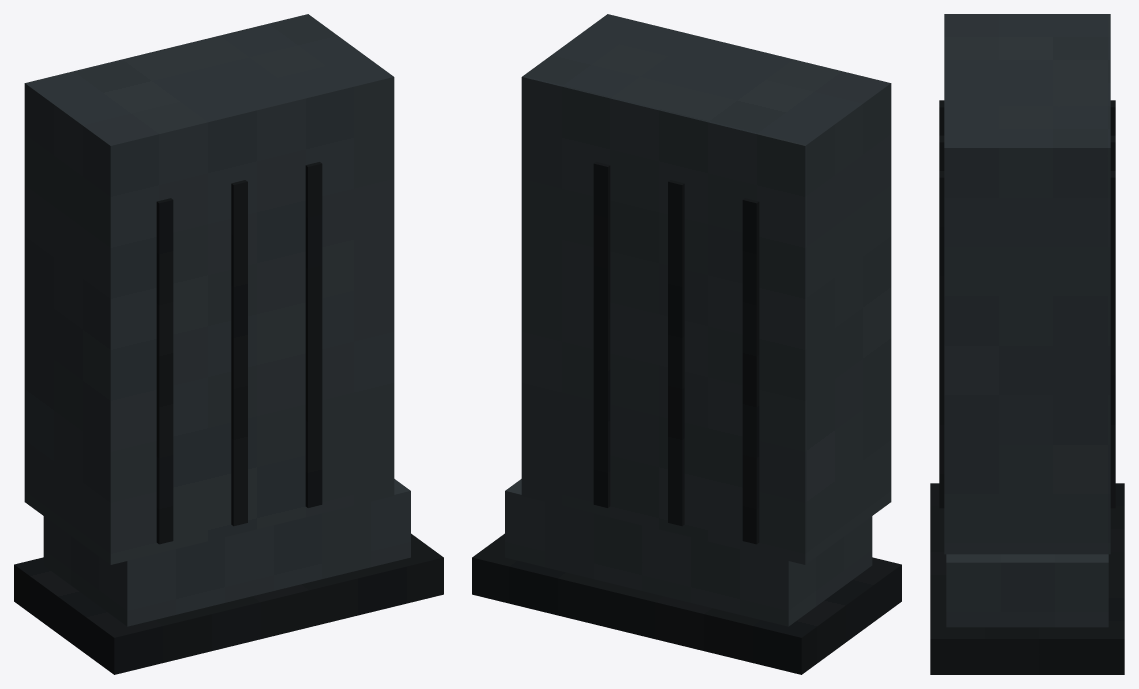
The model's file is Vetluga_B3_Magazine.glb.
The picture shows the model from 3 angles, left to right: view 1: azimuth 30°, elevation 25°; view 2: azimuth 150°, elevation 25°; view 3: azimuth 270°, elevation 25°; orthographic projection. The views are drawn at different scales.
Visible parts, largest first — view 1: Magazine body, Magazine lower step, Magazine floorplate, Magazine reinforcing rib -1 0, Magazine reinforcing rib -1 2, Magazine reinforcing rib -1 1; view 2: Magazine body, Magazine lower step, Magazine floorplate, Magazine reinforcing rib 1 0, Magazine reinforcing rib 1 2, Magazine reinforcing rib 1 1; view 3: Magazine body, Magazine floorplate, Magazine lower step, Magazine reinforcing rib 1 2, Magazine reinforcing rib -1 2.
Part boxes in pixels (box(x1,y1,x2,y2)): Magazine body: box(24, 14, 394, 564); Magazine lower step: box(43, 479, 410, 626); Magazine floorplate: box(14, 533, 443, 674); Magazine reinforcing rib -1 0: box(156, 198, 173, 544); Magazine reinforcing rib -1 2: box(305, 162, 322, 507); Magazine reinforcing rib -1 1: box(231, 180, 247, 526); Magazine body: box(521, 14, 891, 564); Magazine lower step: box(505, 479, 872, 626); Magazine floorplate: box(472, 533, 901, 674); Magazine reinforcing rib 1 0: box(742, 198, 759, 544); Magazine reinforcing rib 1 2: box(593, 162, 610, 507); Magazine reinforcing rib 1 1: box(668, 180, 684, 526); Magazine body: box(944, 14, 1110, 554); Magazine floorplate: box(930, 483, 1124, 674); Magazine lower step: box(946, 554, 1108, 627); Magazine reinforcing rib 1 2: box(1110, 171, 1115, 508); Magazine reinforcing rib -1 2: box(939, 171, 944, 508).
Bounding box in the file's own units: 0.093 × 0.141 × 0.049.
Materials: 1 (1 with a texture image).
